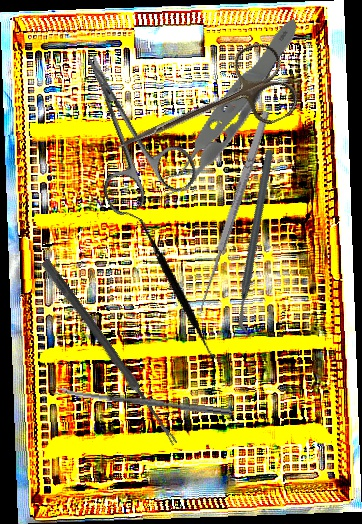Chopper: (175, 148, 339, 337)
Hook Surgical: (194, 109, 279, 317)
Iris Scissors: (101, 36, 304, 188), (50, 35, 202, 219)
Spatula Surgical: (83, 210, 266, 366)
Surgical Spoon: (39, 258, 181, 447), (54, 386, 234, 416)
Tissue Forceps: (111, 17, 340, 203)
